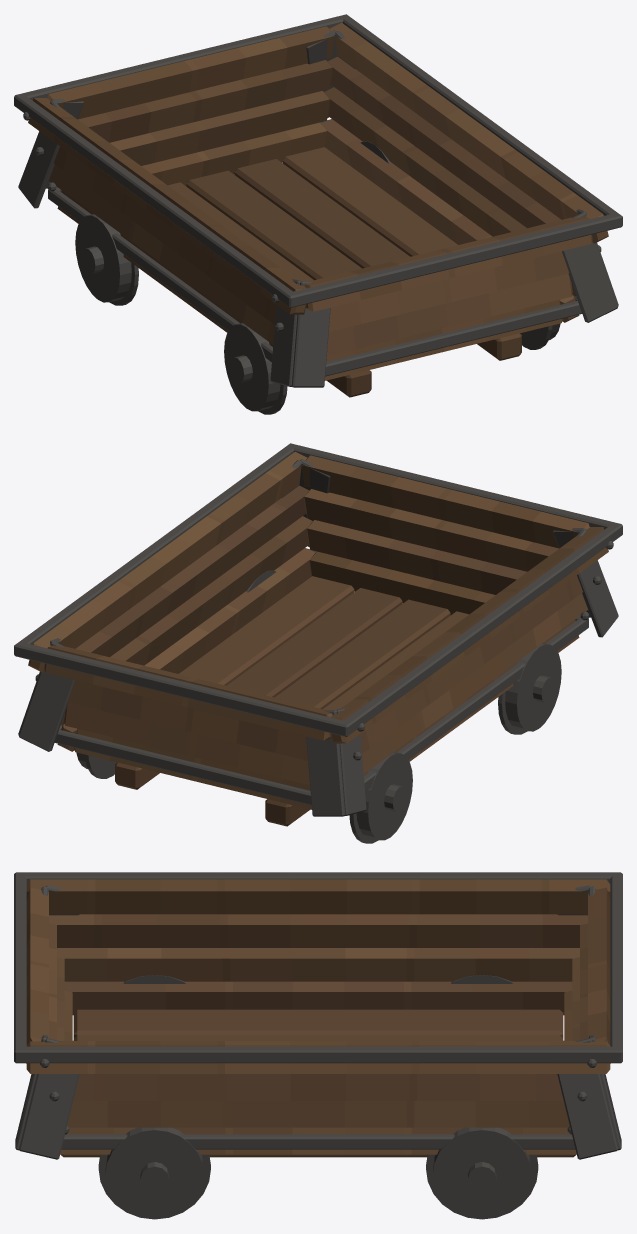
The model's file is cart.glb.
3 renders of one model, top to bottom at view 1: azimuth 30°, elevation 25°; view 2: azimuth 150°, elevation 25°; view 3: azimuth 270°, elevation 25°, orthographic. The views are drawn at different scales.
Parts seen in each view (by area): view 1: cart-wood, cart-iron; view 2: cart-wood, cart-iron; view 3: cart-wood, cart-iron.
Boxes of the visible parts, box(x1,y1,x2,y2) form: cart-wood: box(28, 22, 608, 397); cart-iron: box(14, 14, 622, 414); cart-wood: box(28, 451, 608, 826); cart-iron: box(14, 443, 622, 843); cart-wood: box(26, 879, 610, 1157); cart-iron: box(14, 872, 622, 1219).
Size of the model in its own units: 1.36 by 0.6445 by 1.91.
